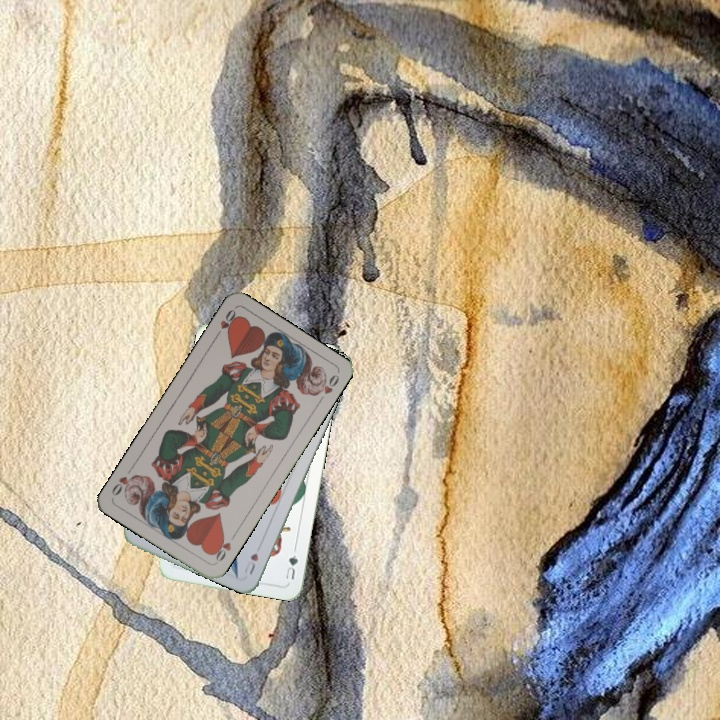GU: (281, 551, 300, 582)
HO: (208, 529, 238, 566), (211, 305, 241, 341)
HU: (240, 549, 261, 577)
